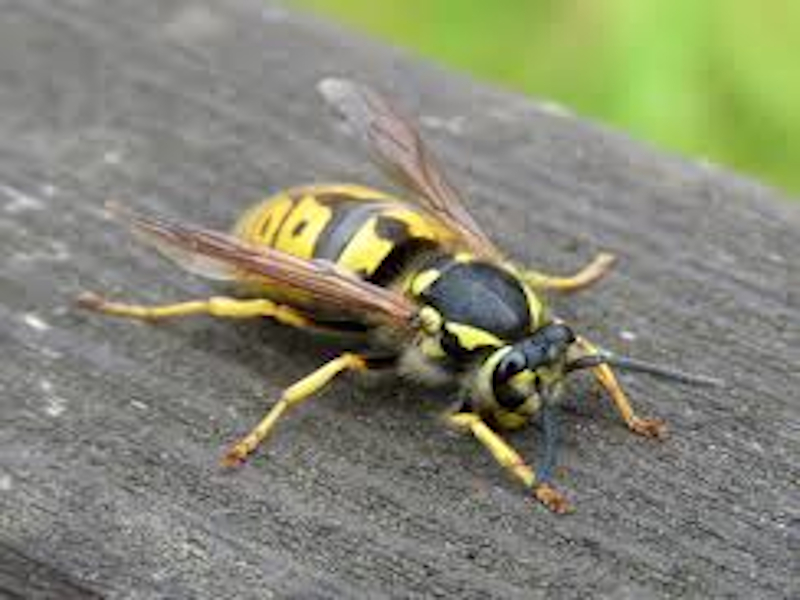chax: (80, 61, 720, 521)
